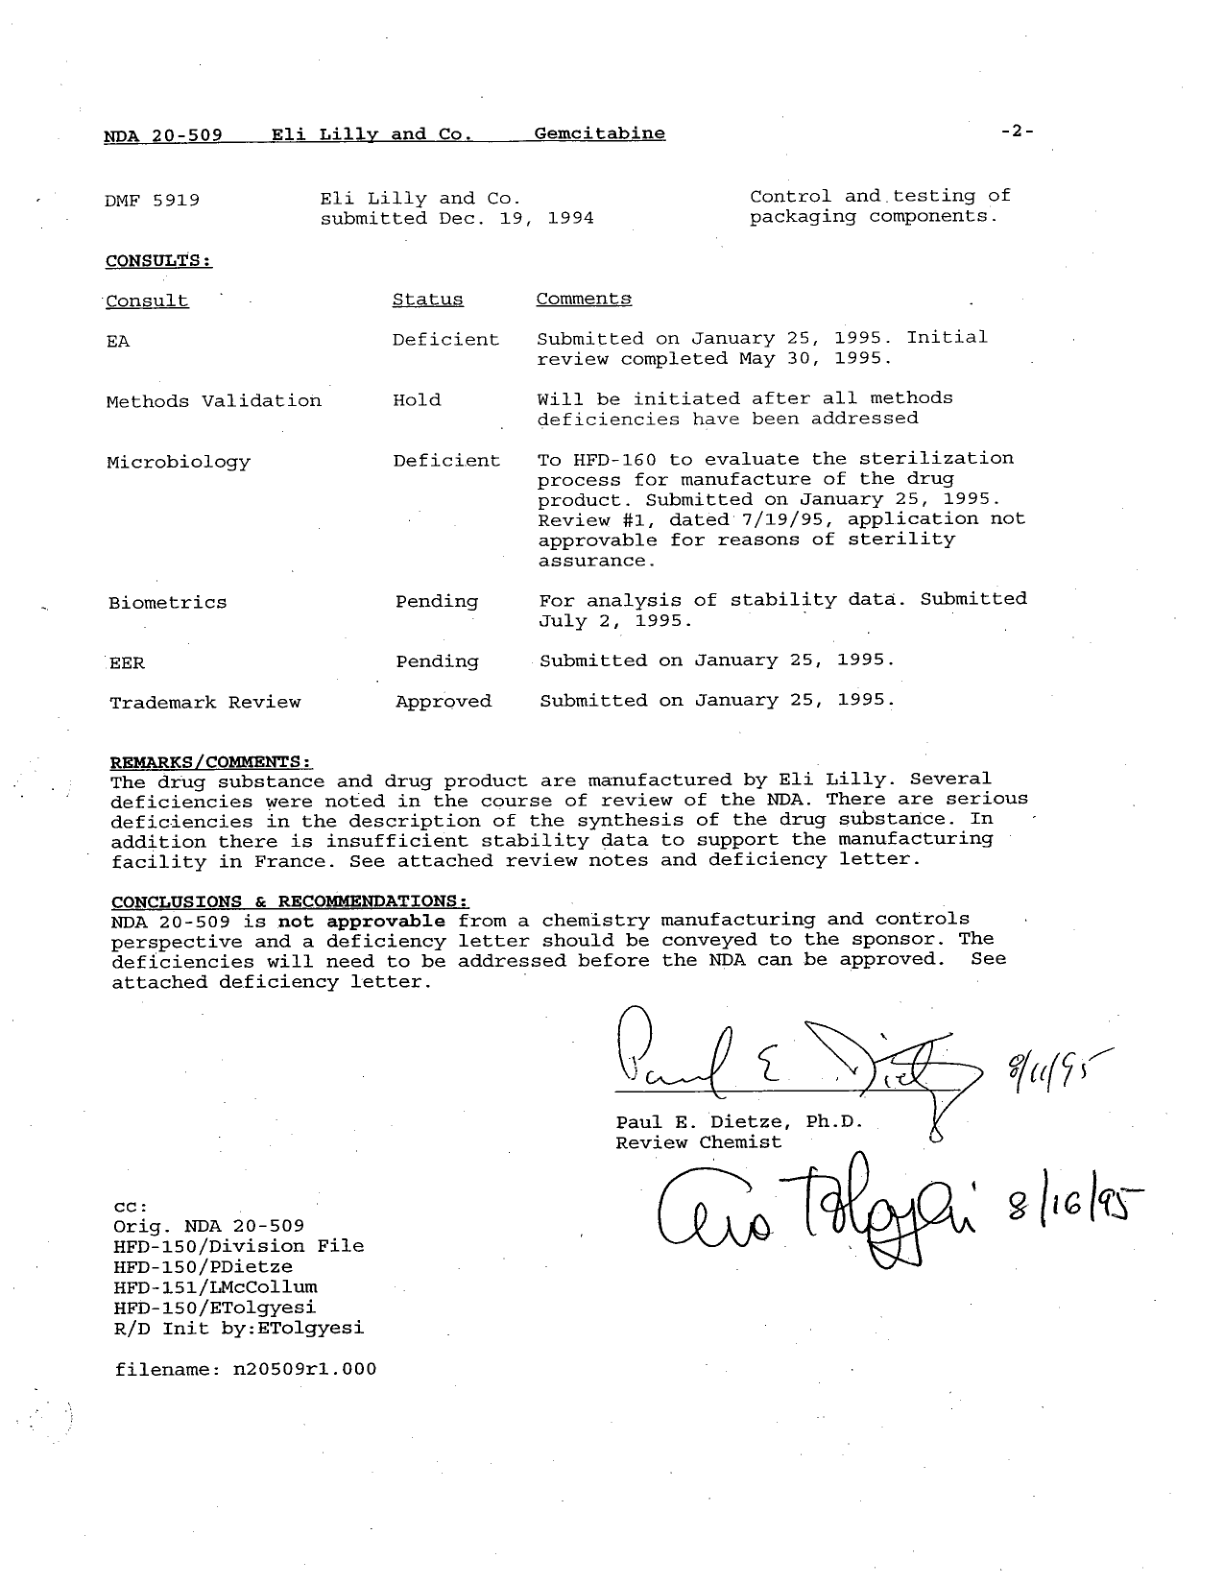nolines: (103, 293, 1029, 714)
